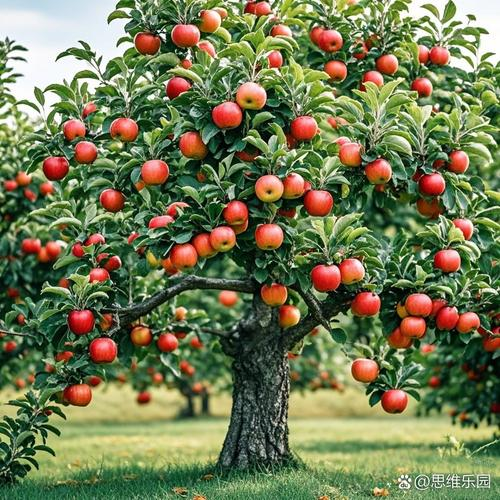ripe: (309, 263, 348, 296), (208, 97, 242, 134), (221, 194, 250, 237), (204, 223, 245, 253), (135, 157, 171, 190), (251, 219, 286, 251), (233, 79, 269, 110), (105, 115, 139, 147), (348, 284, 379, 318), (333, 135, 367, 166), (305, 185, 337, 217), (66, 302, 94, 337), (318, 57, 355, 83), (87, 338, 121, 366), (412, 170, 449, 195), (376, 389, 413, 413), (338, 253, 364, 287), (61, 380, 97, 404), (42, 153, 73, 180), (171, 239, 196, 272), (96, 188, 130, 212), (347, 356, 379, 381), (166, 77, 198, 101), (365, 157, 393, 184), (177, 130, 204, 158), (403, 291, 430, 319), (399, 314, 429, 337)
unripe: (251, 170, 286, 204), (258, 276, 291, 309), (272, 304, 307, 328)
